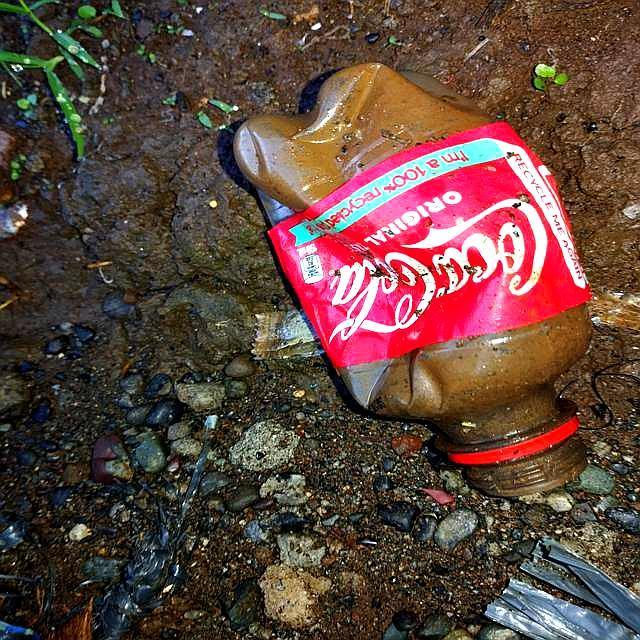Non-biodegradable: (236, 62, 596, 498)
